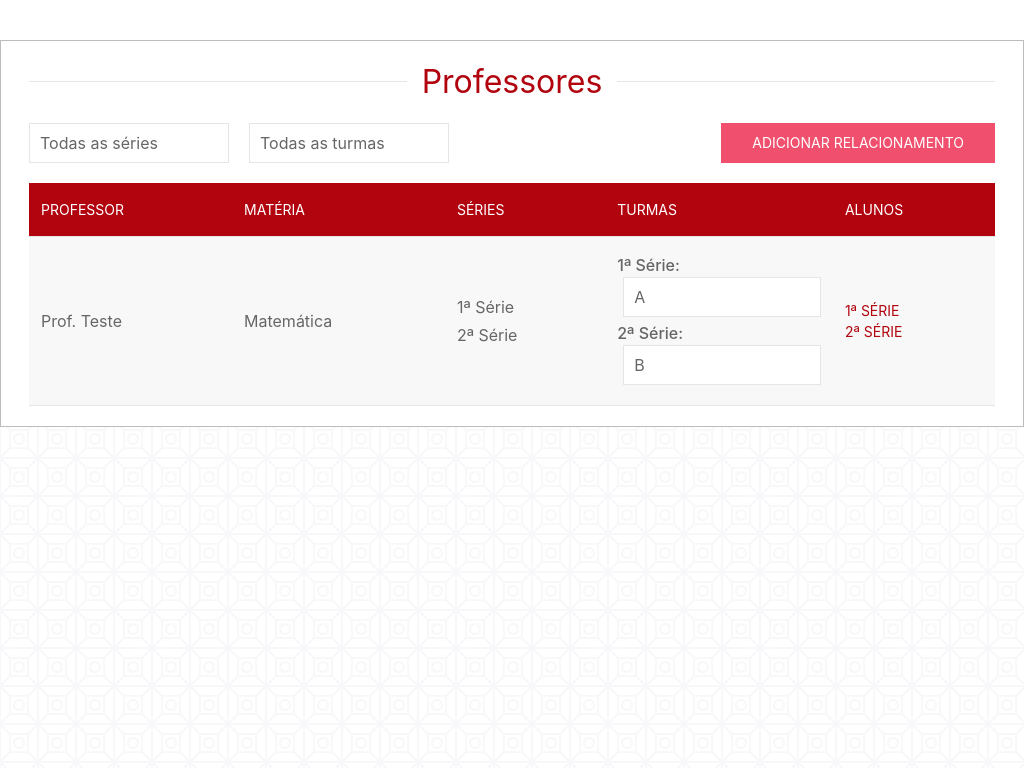
Test: Teachers Page › can open and close the relationship form modal
The width and height of the screenshot is (1024, 768).
Step 1. Click the button "Adicionar relacionamento" → (858, 143), box [721, 123, 995, 163]
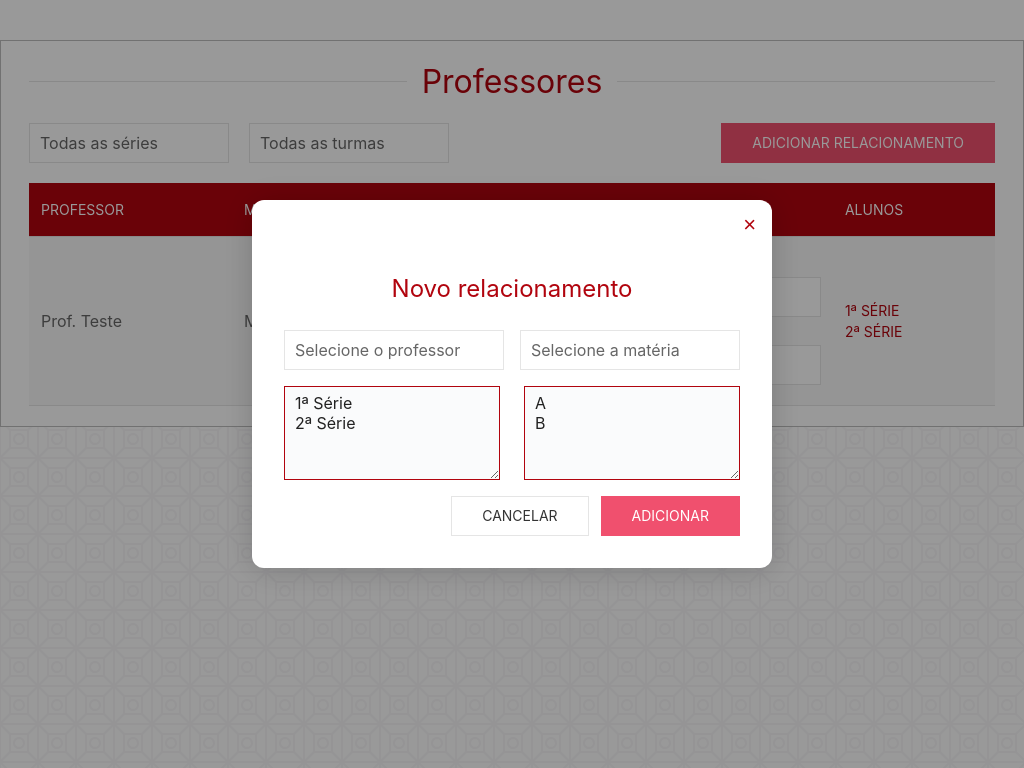
Check: the heading "Novo relacionamento" is shown, box [392, 274, 632, 303]
Step 2. Click the button "Cancelar" → (520, 516), box [451, 496, 589, 536]
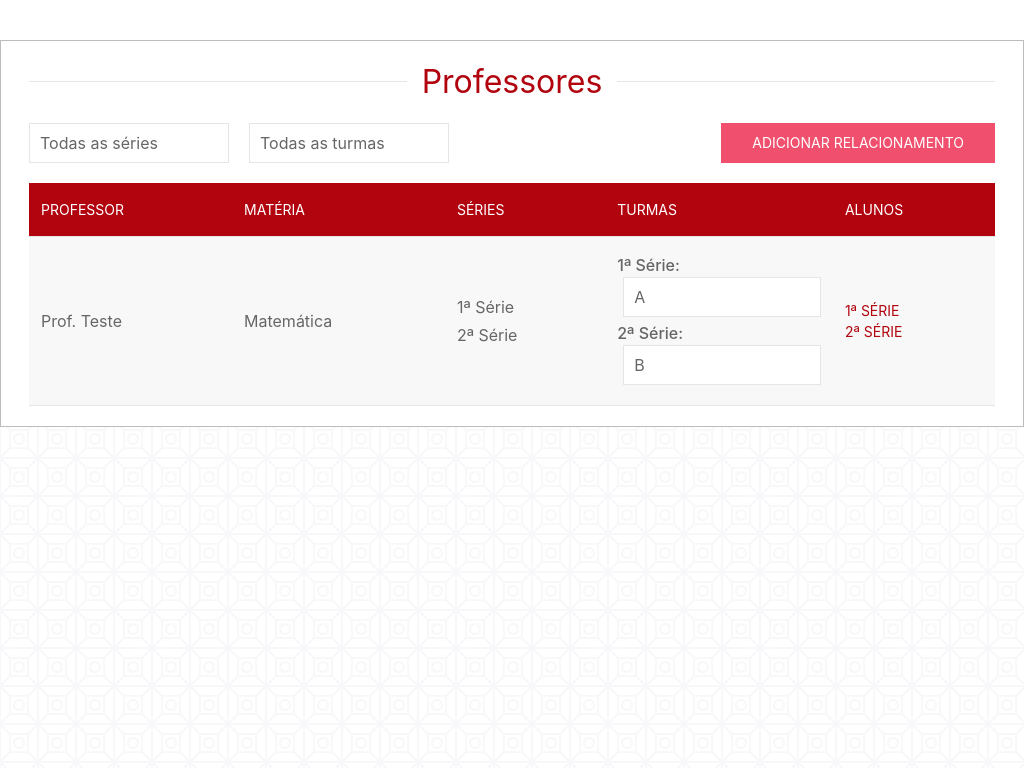
Check: the heading "Novo relacionamento" is gone
